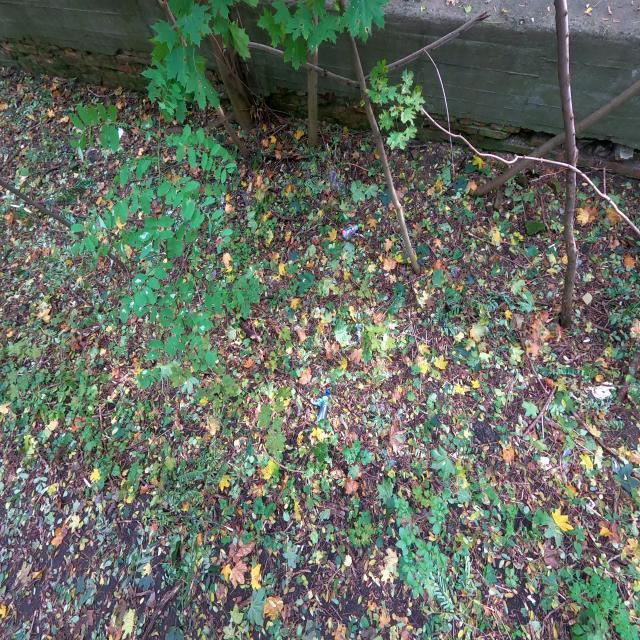rubbish: (314, 389, 330, 426), (587, 381, 616, 400), (324, 169, 346, 193), (211, 181, 226, 206), (341, 222, 363, 238), (240, 192, 255, 207), (310, 396, 321, 407), (118, 126, 125, 140)
